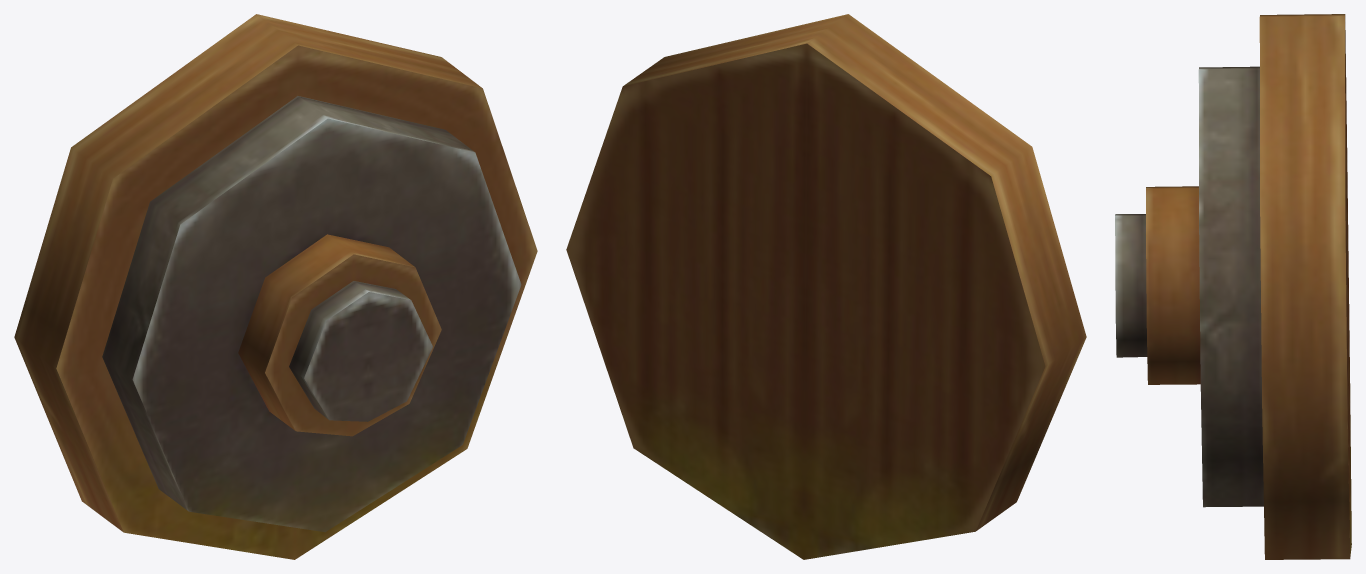
Rendered from CeShi_BFB07_Pinchelun.FBX.
3 views of the same model, side by side, from view 1: azimuth 30°, elevation 25°; view 2: azimuth 150°, elevation 25°; view 3: azimuth 270°, elevation 25° (orthographic). The views are drawn at different scales.
Visible parts, largest first — view 1: CeShi_BFB07_Pinchelun; view 2: CeShi_BFB07_Pinchelun; view 3: CeShi_BFB07_Pinchelun.
Boxes of the visible parts, x1=… form: CeShi_BFB07_Pinchelun: x1=14, y1=14, x2=537, y2=559; CeShi_BFB07_Pinchelun: x1=566, y1=14, x2=1086, y2=559; CeShi_BFB07_Pinchelun: x1=1115, y1=14, x2=1351, y2=559.
Bounding box in the file's own units: 89.49 × 91.89 × 37.23.
